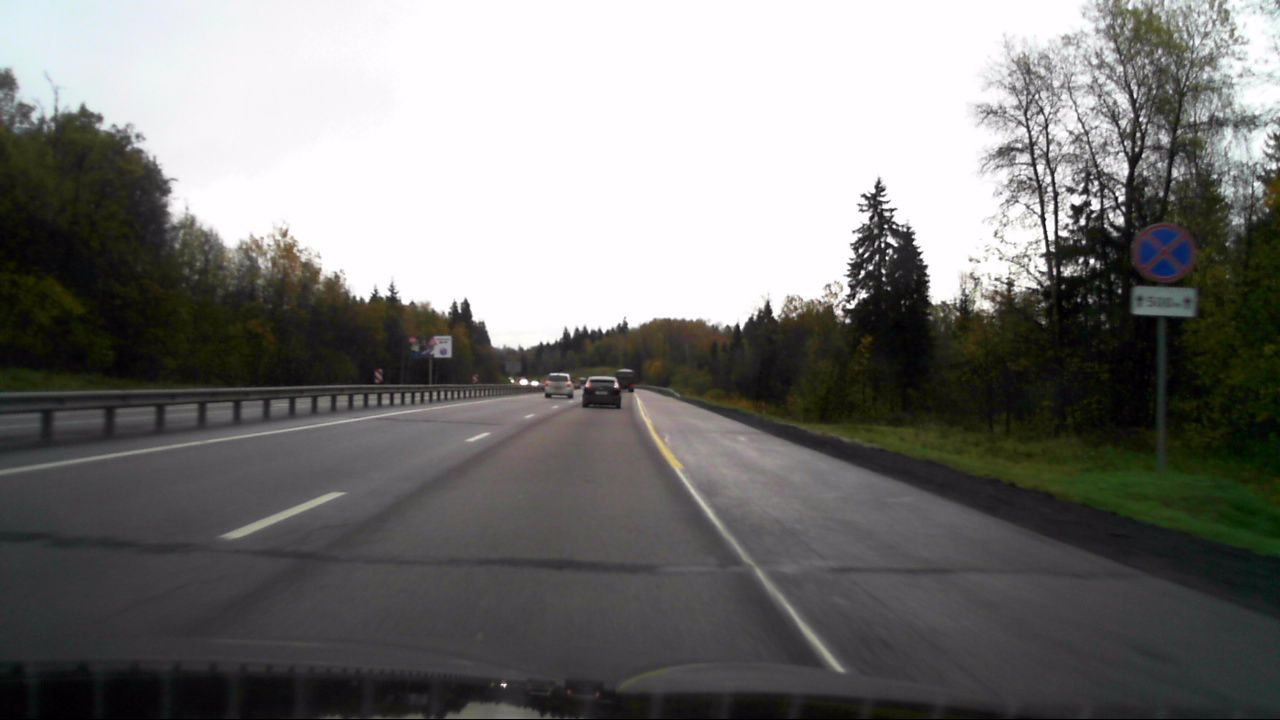No Parking: (1132, 225, 1195, 280)
